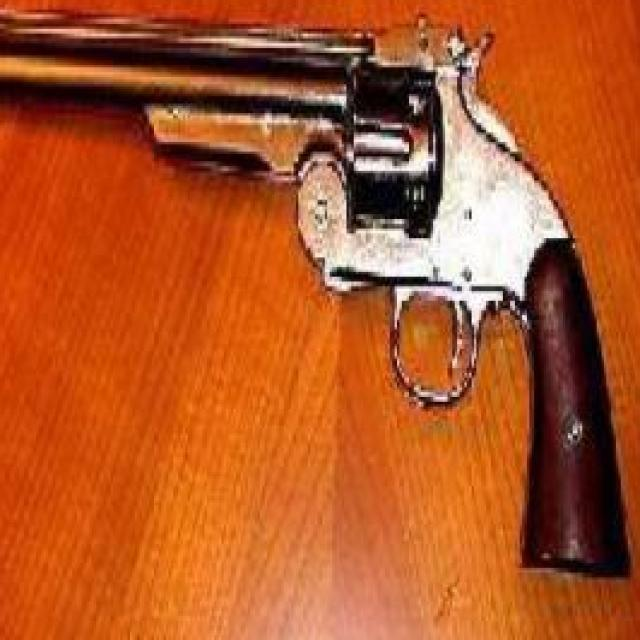pistol: (1, 0, 638, 577)
